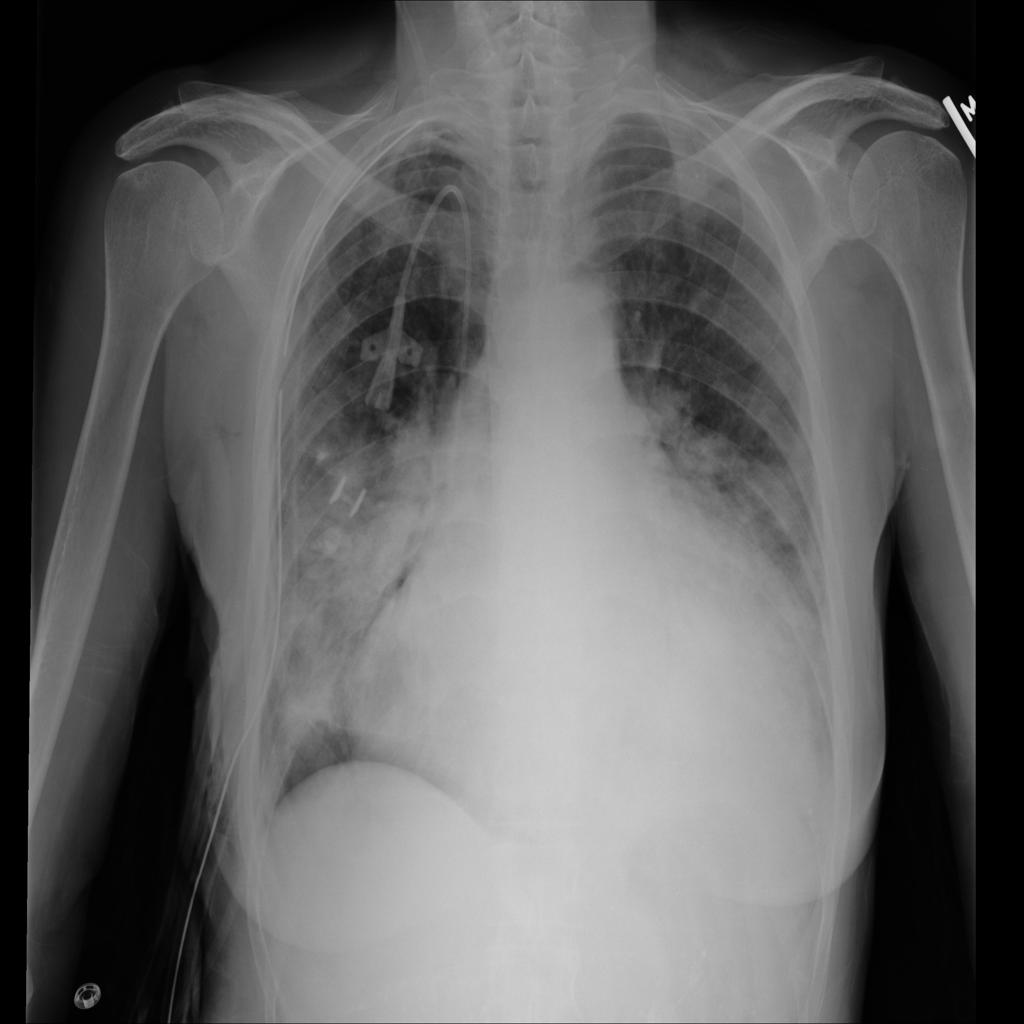Cardiomegaly: (340, 423, 841, 830)
